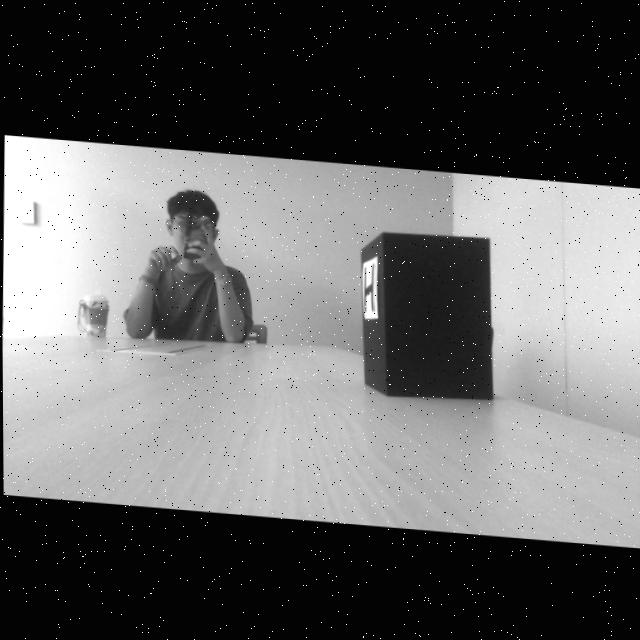H: (364, 258, 374, 307)
